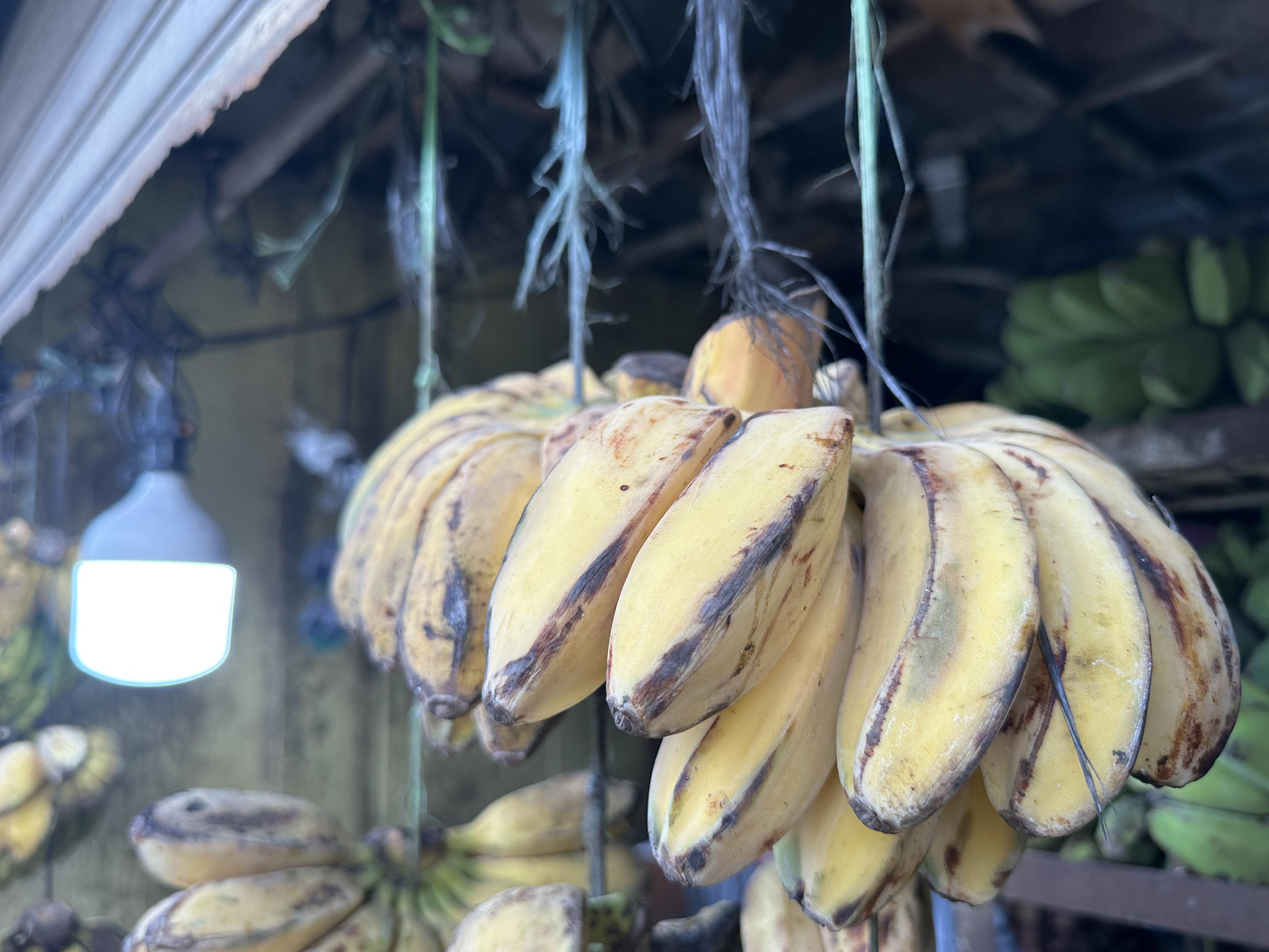ripe: (486, 397, 1243, 931), (329, 366, 572, 750), (125, 772, 591, 952)
